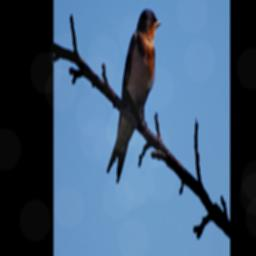Swallow: (106, 8, 161, 184)
